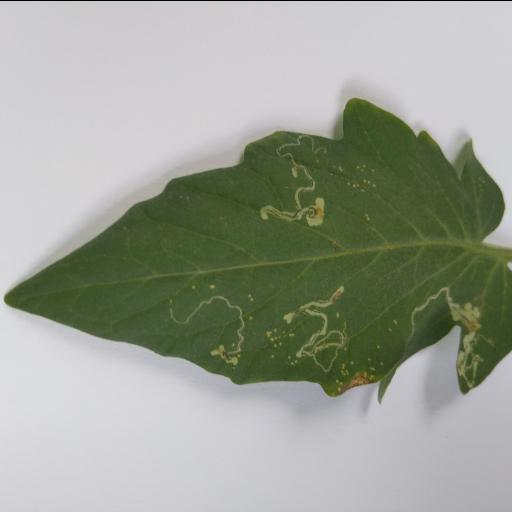disease_tomato: (1, 99, 512, 399)
